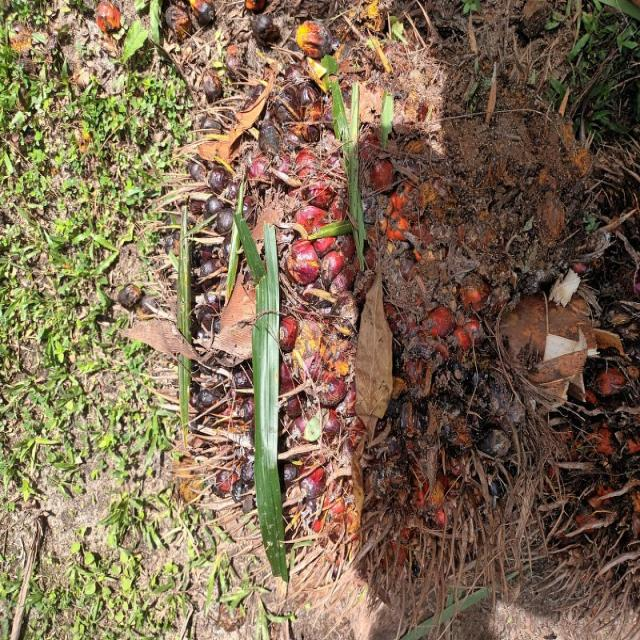fraksi 1: (52, 35, 465, 625)
